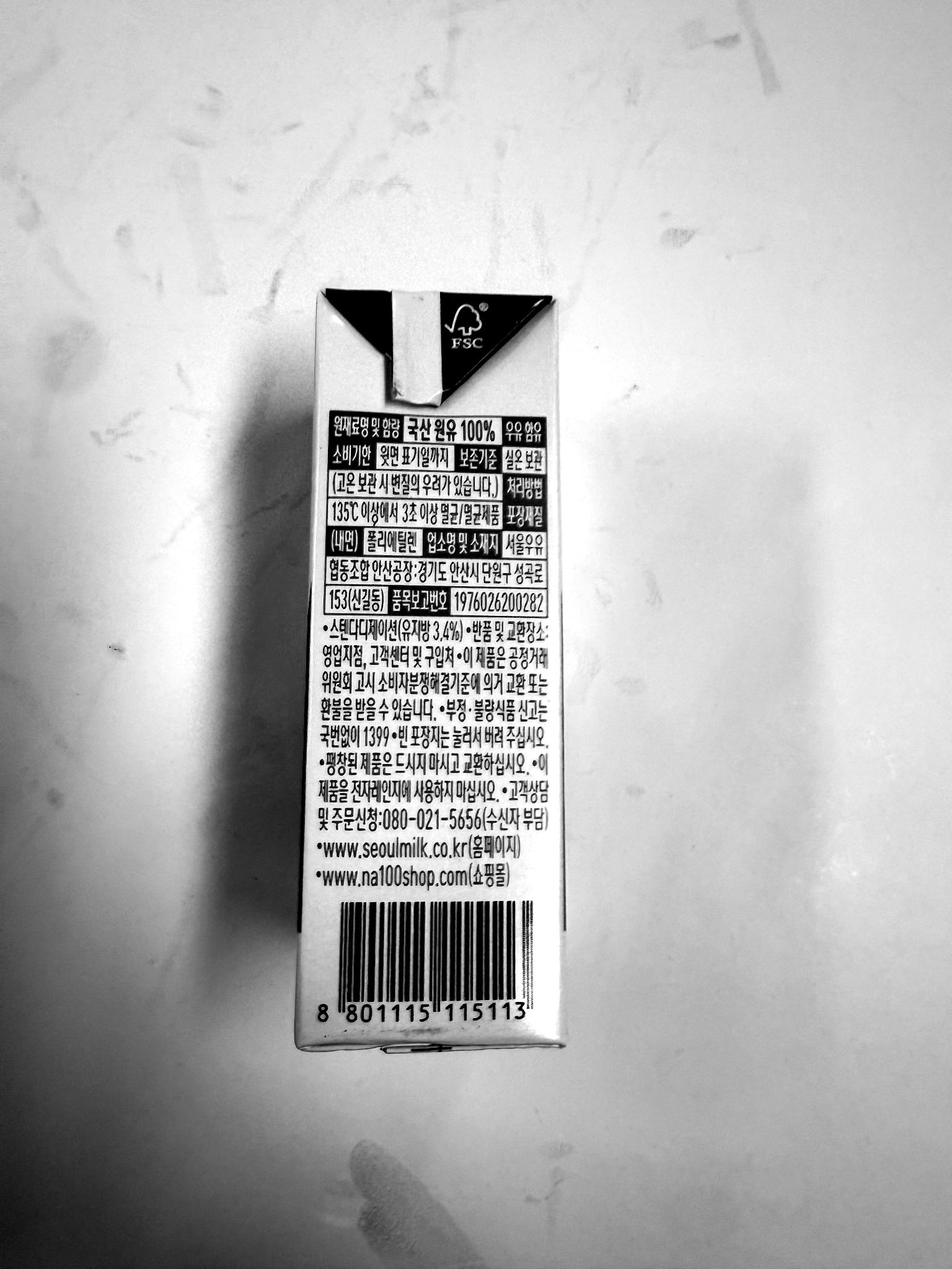milk_green: (296, 286, 562, 1059)
